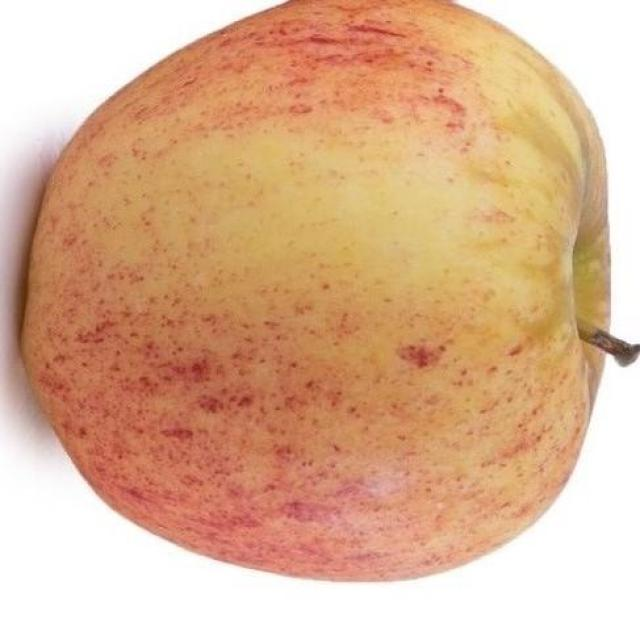Rotten Apple: (26, 0, 607, 580)
